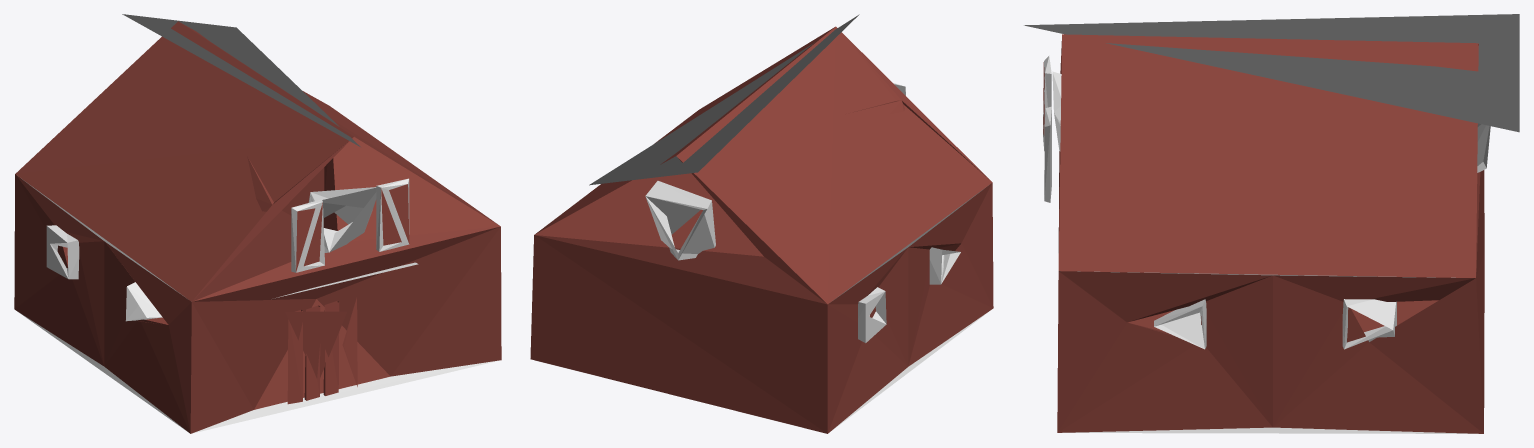
The model's file is SmallBarn.lod3.glb.
The picture shows the model from 3 angles, left to right: view 1: azimuth 30°, elevation 25°; view 2: azimuth 150°, elevation 25°; view 3: azimuth 270°, elevation 25°; orthographic projection. The views are drawn at different scales.
Parts seen in each view (by area): view 1: Small_Barn, Small_Barn_Door, SmallBarn_Window, SmallBarn_Window2; view 2: Small_Barn; view 3: Small_Barn, SmallBarn_Window, SmallBarn_Window2.
Part boxes in pixels (bbox=[...]): Small_Barn: bbox=[14, 14, 501, 433]; Small_Barn_Door: bbox=[285, 297, 357, 404]; SmallBarn_Window: bbox=[376, 178, 409, 251]; SmallBarn_Window2: bbox=[291, 199, 324, 272]; Small_Barn: bbox=[530, 14, 993, 433]; Small_Barn: bbox=[1024, 14, 1519, 433]; SmallBarn_Window: bbox=[1044, 106, 1051, 202]; SmallBarn_Window2: bbox=[1043, 56, 1051, 151].
Size of the model in its own units: 5.65 by 4.44 by 6.27.
